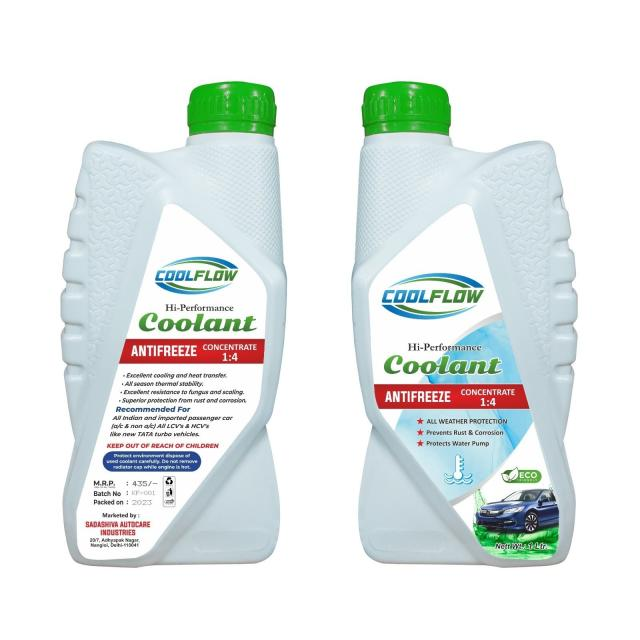coolant: (350, 77, 586, 577), (58, 71, 290, 572)
